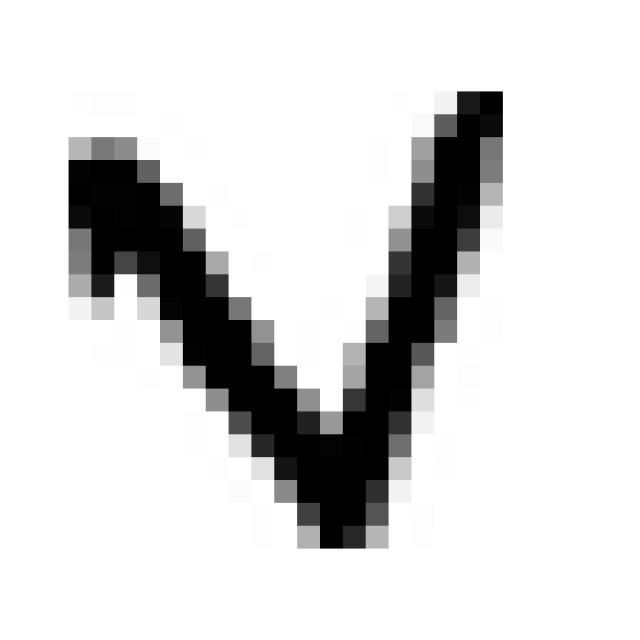7 -seven-: (41, 66, 523, 563)
